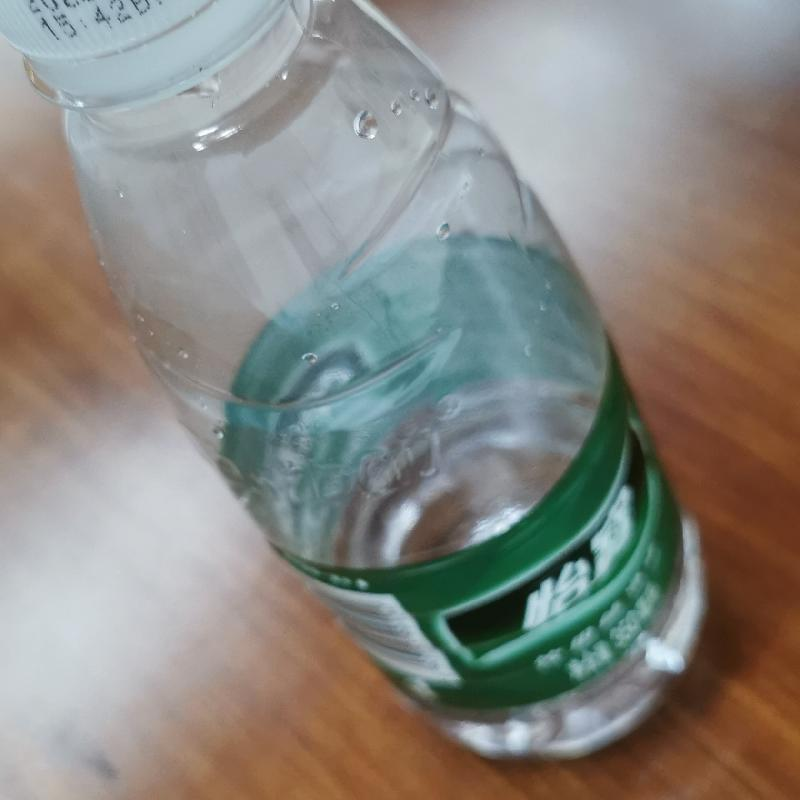bottles: (3, 1, 713, 762)
